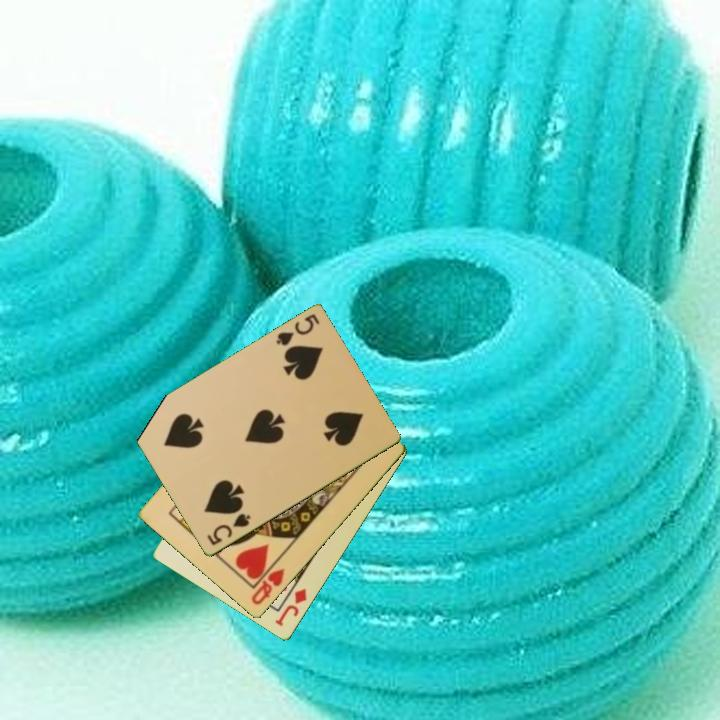5s: (203, 510, 254, 549), (272, 311, 323, 349)
Jd: (271, 585, 310, 629)
Qh: (248, 565, 288, 608)
